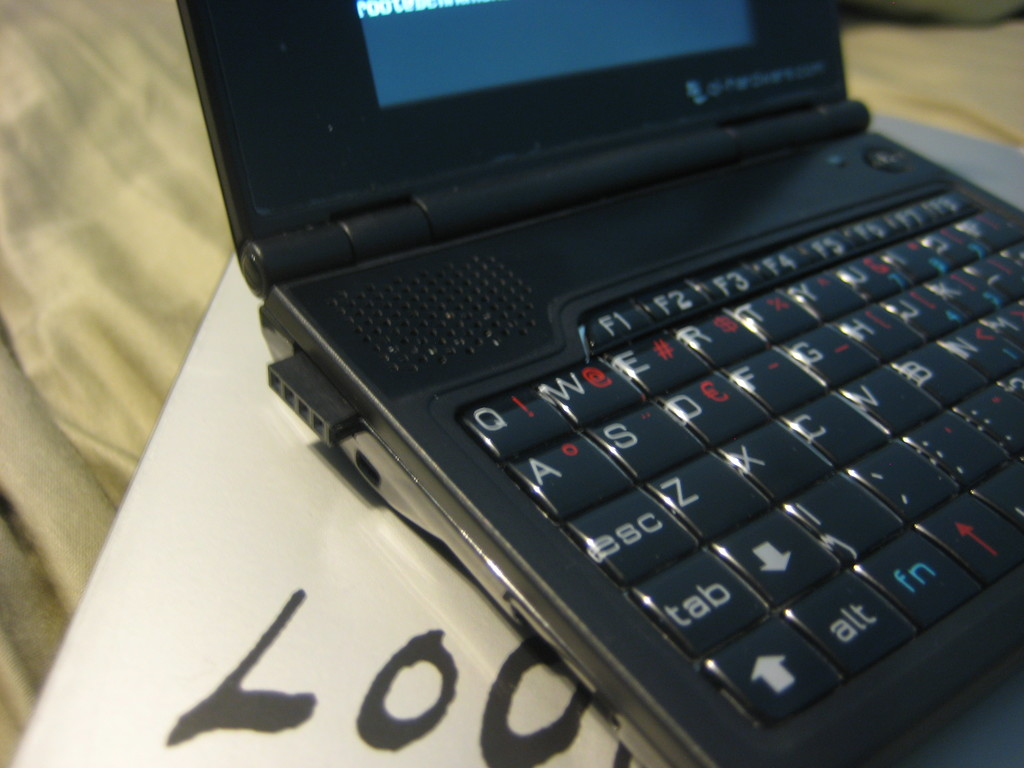Laptop: (173, 0, 1023, 767)
